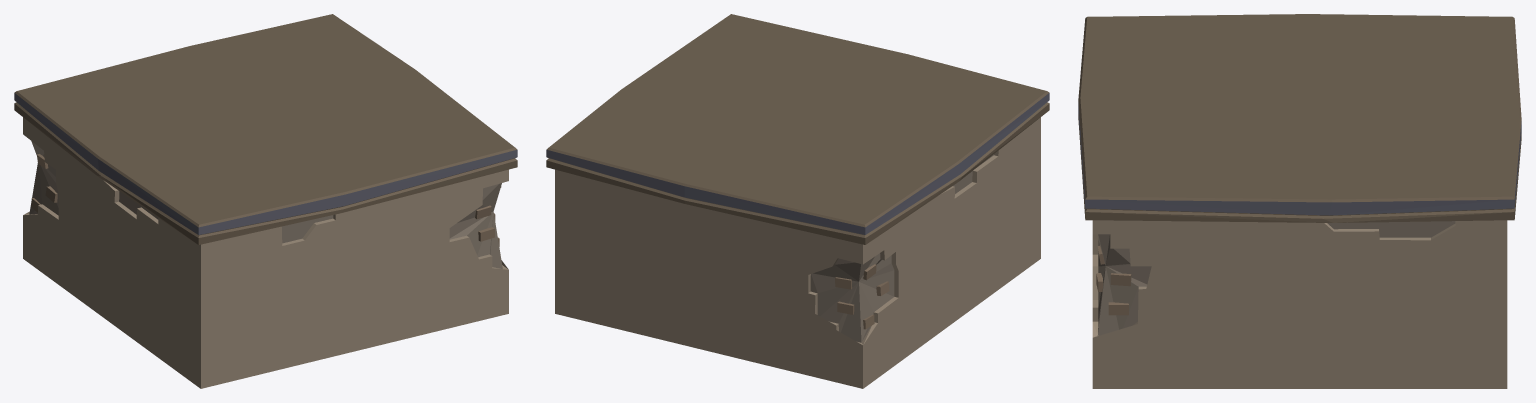
File: SM_Bld_Shanty_Base_02.glb
The picture shows the model from 3 angles, left to right: view 1: azimuth 30°, elevation 25°; view 2: azimuth 150°, elevation 25°; view 3: azimuth 270°, elevation 25°; orthographic projection. The views are drawn at different scales.
Parts seen in each view (by area): view 1: SM_Bld_Shanty_Base_02_part00; view 2: SM_Bld_Shanty_Base_02_part00; view 3: SM_Bld_Shanty_Base_02_part00.
Boxes of the visible parts, x1,y1,x2,y2 form: SM_Bld_Shanty_Base_02_part00: (14, 14, 517, 388); SM_Bld_Shanty_Base_02_part00: (546, 14, 1049, 388); SM_Bld_Shanty_Base_02_part00: (1078, 14, 1521, 388).
Size of the model in its own units: 5.17 by 2.5 by 5.16.
1 material, 1 textured.
